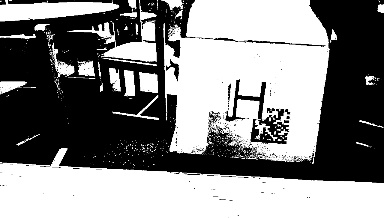H: (228, 75, 267, 120)
